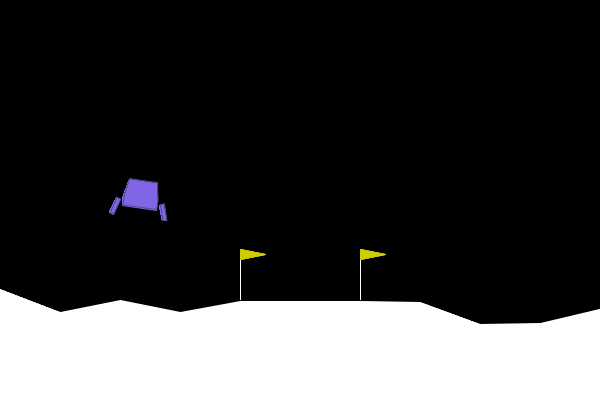lander: (108, 175, 173, 223)
